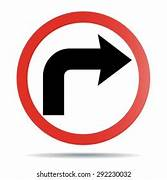right: (17, 10, 150, 146)
